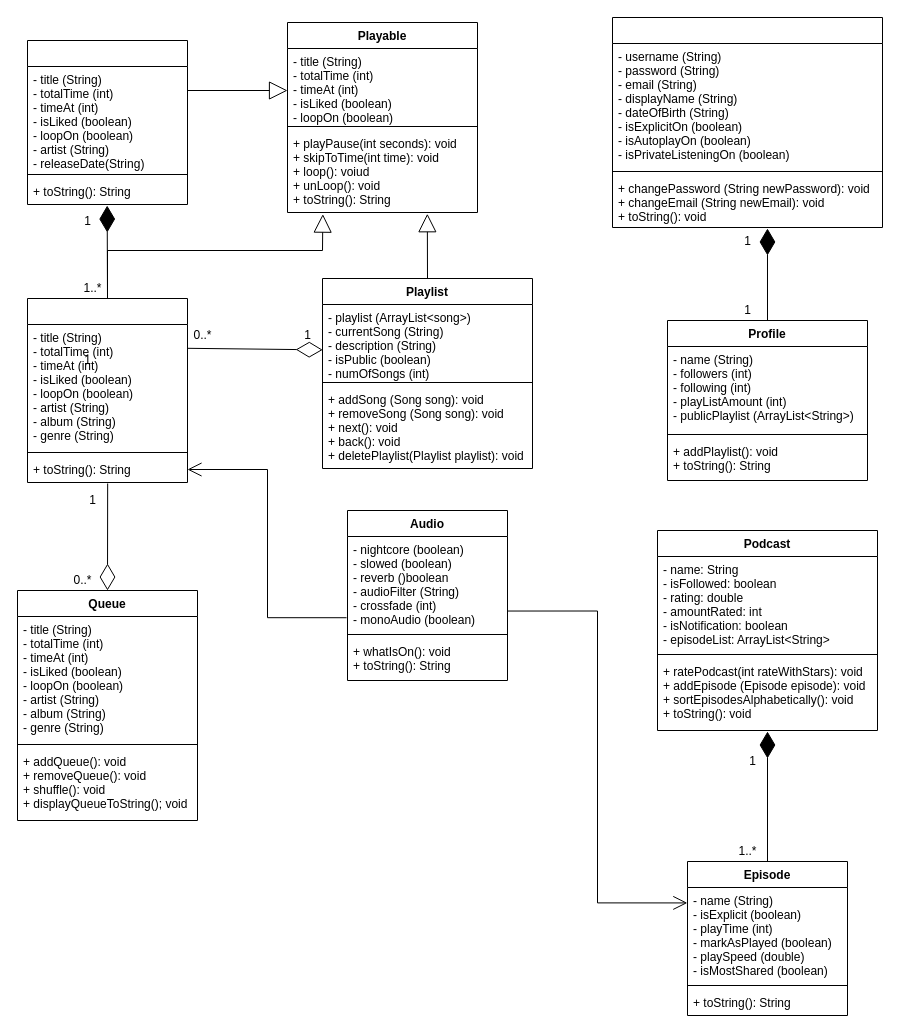
Image size: 900x1036. Some labels were removed from this diagram. Here are the shapes that lost their labels. From the top down, the box of each, then its label:
(26, 40, 188, 204): Album
(612, 16, 882, 228): AccountSettings
(26, 298, 188, 482): Song
